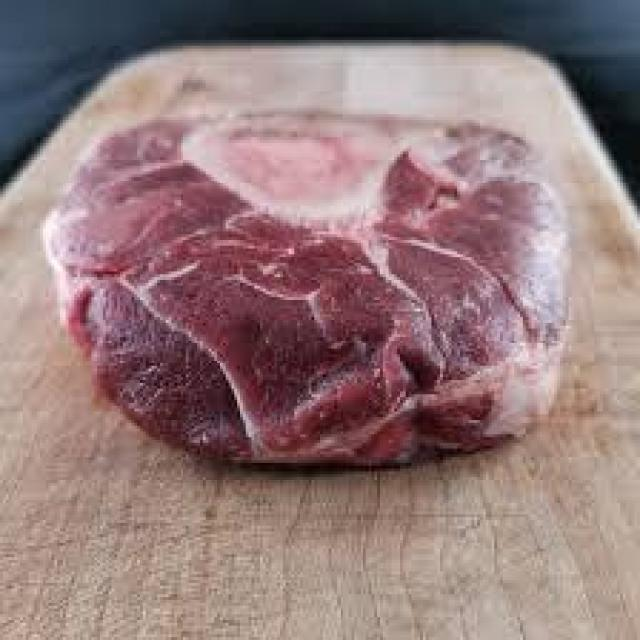beef: (74, 109, 582, 461)
